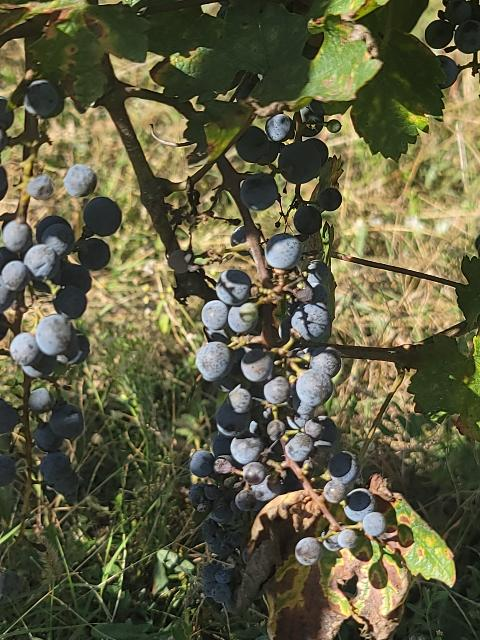grapes: (0, 80, 121, 495), (204, 259, 341, 502), (189, 450, 261, 605)
